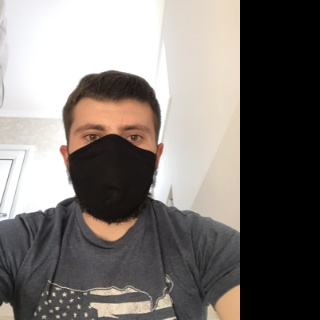with_mask: (68, 115, 158, 224)
